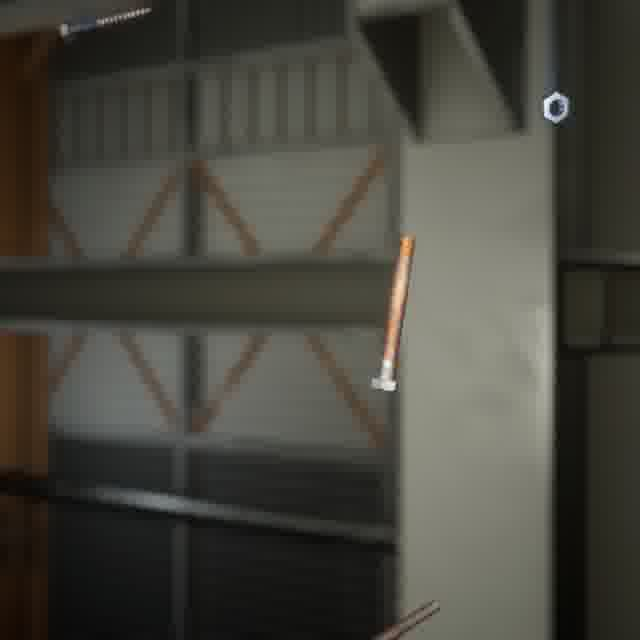bolt: (366, 231, 419, 396), (55, 3, 158, 47), (366, 594, 445, 640)
nut: (534, 86, 574, 128)
